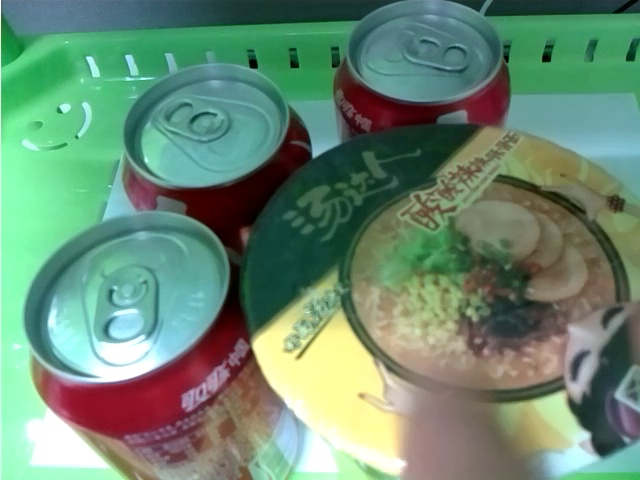cocacola: (20, 213, 298, 480), (116, 63, 312, 226), (323, 2, 510, 129)
noodles: (241, 123, 640, 480)
